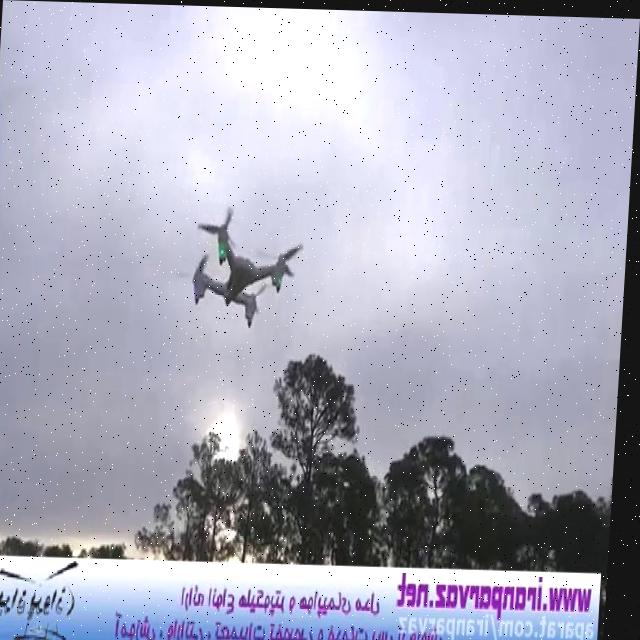drone: (177, 196, 312, 329)
